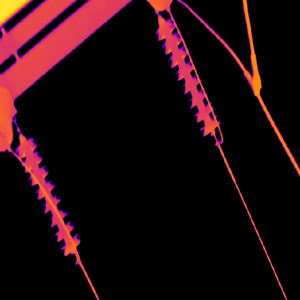insulator: (12, 131, 81, 256), (154, 13, 200, 138)
